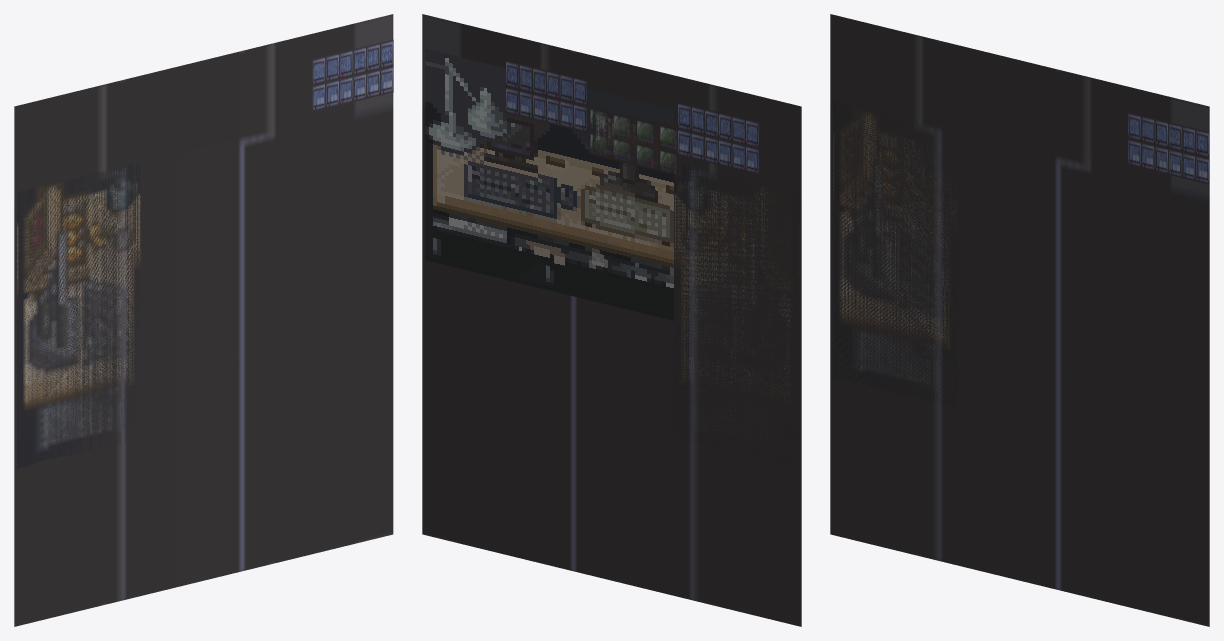
Rendered from E_GuardDesk_GuardRoom.glb.
3 renders of one model, left to right at view 1: azimuth 30°, elevation 25°; view 2: azimuth 150°, elevation 25°; view 3: azimuth 330°, elevation 25°, orthographic.
Parts seen in each view (by area): view 1: Renderer (1), Renderer (×2); view 2: Renderer (1), Renderer (×5); view 3: Renderer (1), Renderer (×2).
Part boxes in pixels (x1,y1,x2,y2): Renderer (1): [14, 14, 393, 626]; Renderer (×2): [17, 39, 393, 468]; Renderer (1): [422, 14, 801, 626]; Renderer (×5): [425, 49, 798, 466]; Renderer (1): [830, 14, 1209, 626]; Renderer (×2): [833, 101, 1209, 406].
Size of the model in its own units: 3.05 by 4 by 0.015.
Materials: 5 (5 with a texture image).
